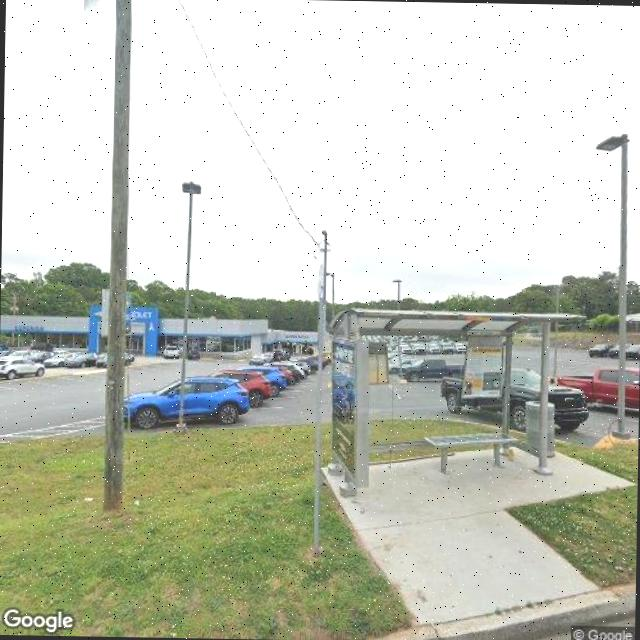seating: (422, 429, 518, 477)
shelter: (322, 307, 586, 502)
trash_can: (523, 398, 556, 458)
